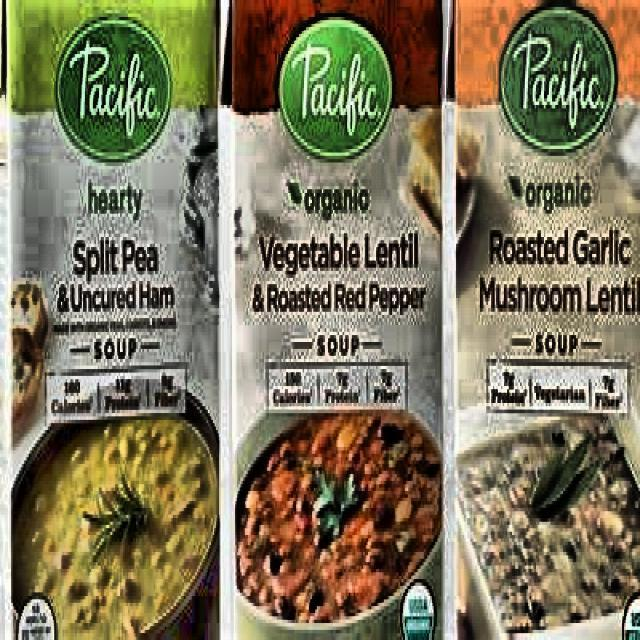cardboard: (218, 0, 451, 637), (452, 0, 638, 637)
